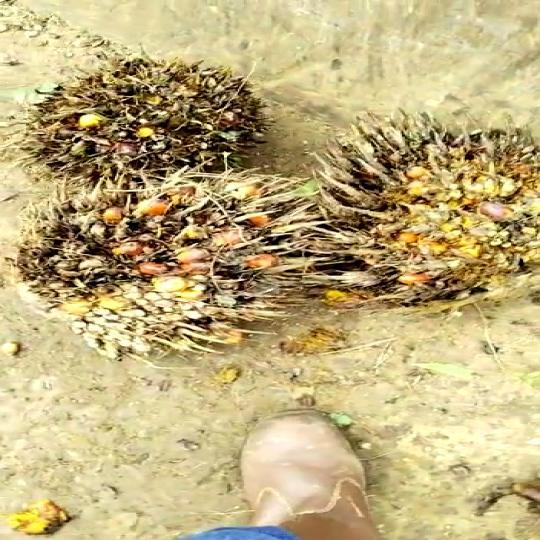terlalu masak: (0, 177, 362, 348), (295, 120, 540, 298), (0, 54, 265, 181)
